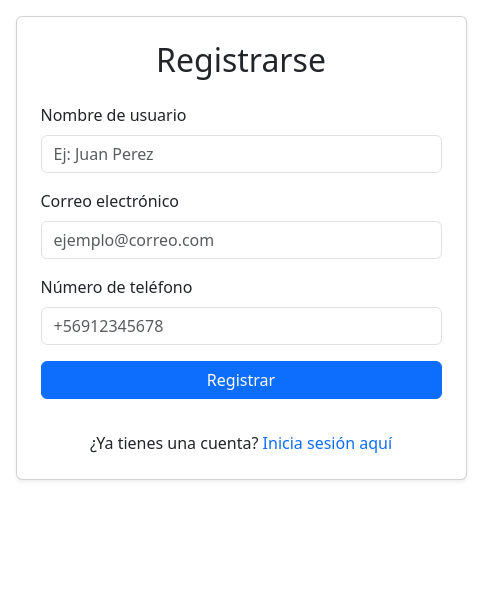
Scenario: RegisterForm › rechaza el teléfono inválido "12345"
Type "Juan Perez" into the field labelled "Nombre de usuario" at (241, 154), box [40,135,442,173]
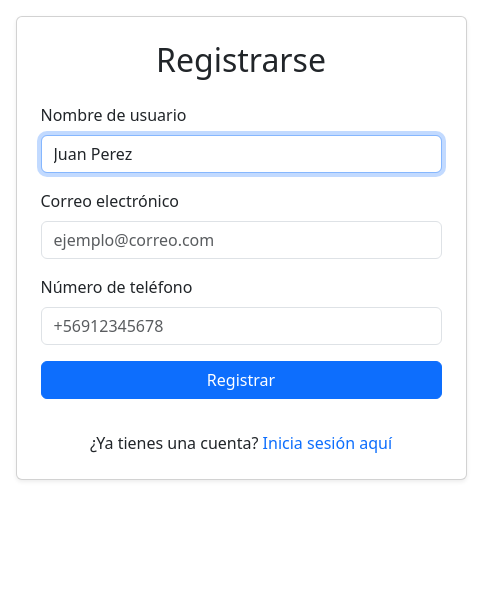
Type "juan@correo.com" into the field labelled "Correo electrónico" at (241, 240), box [40,221,442,259]
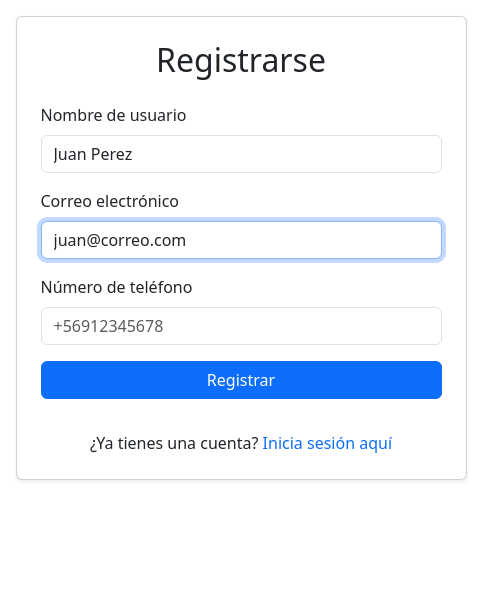
Type "12345" into the field labelled "Número de teléfono" at (241, 326), box [40,307,442,345]
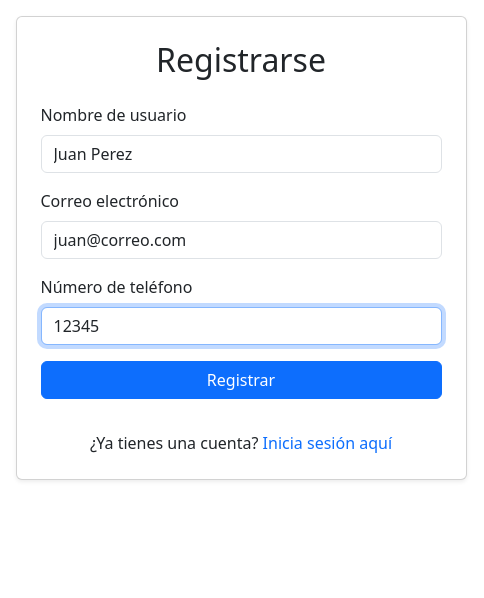
Click the button "Registrar" at (241, 380), box [40,361,442,399]
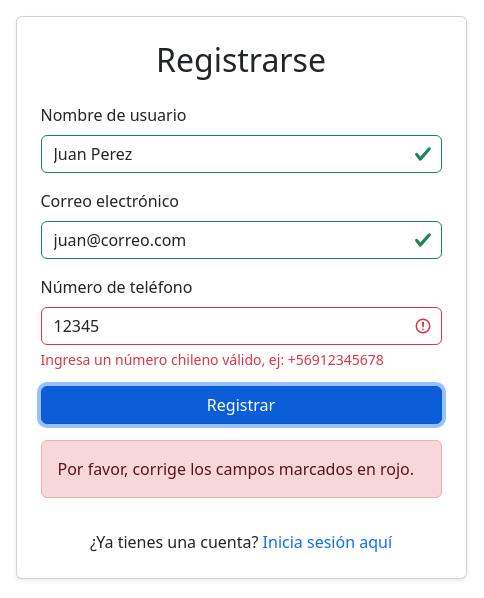
Check: the text "Ingresa un número chileno válido, ej: +56912345678" is shown, box [40,349,442,370]
